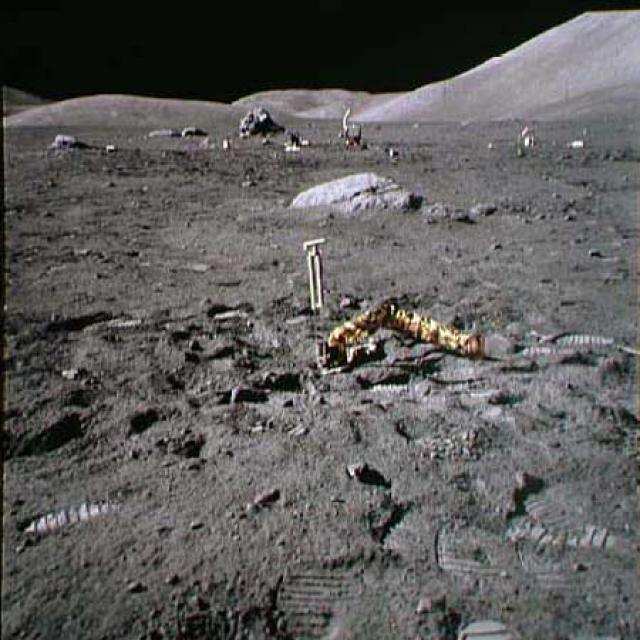artifact: (290, 226, 484, 379), (318, 98, 372, 154)
rock: (296, 171, 433, 230), (227, 100, 281, 145), (44, 125, 83, 151), (143, 120, 177, 142), (183, 120, 205, 142)
